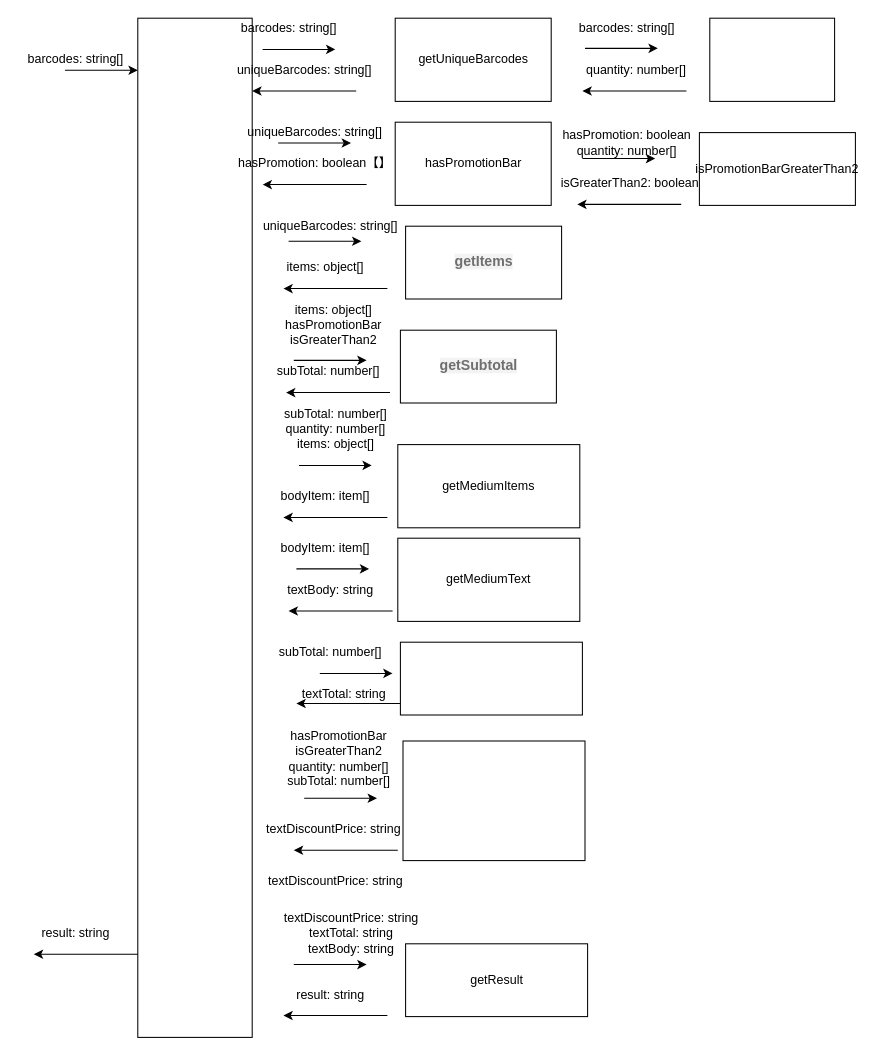
The diagram is 877 pixels wide and 1056 high, and some of its shapes have lost their labels. The shapes that lost their labels are listed below. From the top down, each one's box as (x1, y1, x2, y2) in pixels, then its label:
(709, 17, 835, 101): getQuantity
(137, 17, 252, 1037): printReceipt
(399, 641, 582, 715): getTotal
(402, 740, 585, 861): getDiscountPrice
